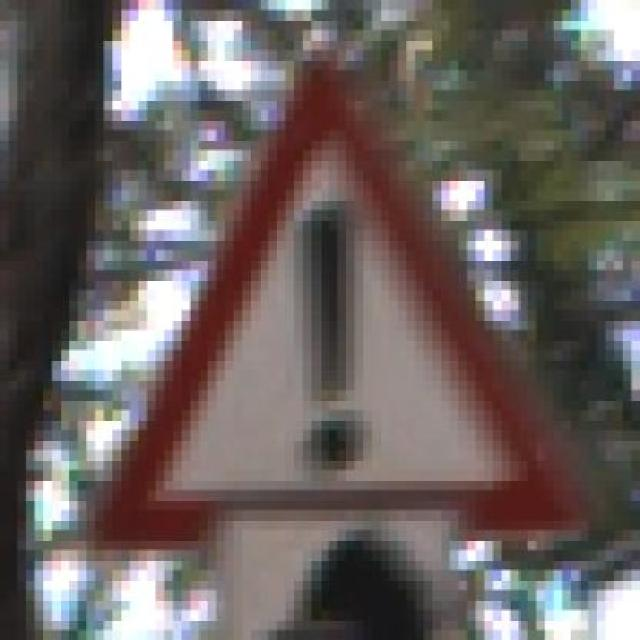Attention Please-: (79, 44, 607, 564)
